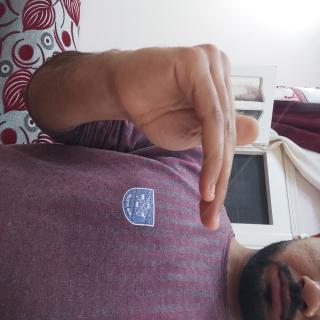KHAA: (27, 78, 177, 310)
